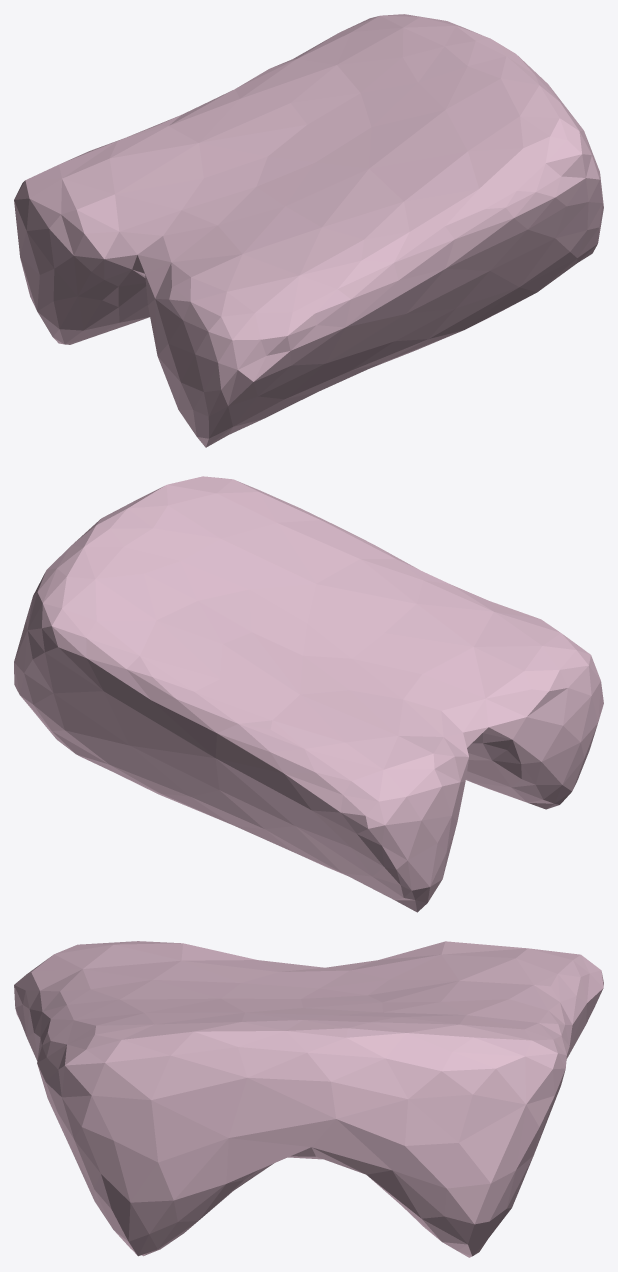
The picture shows the model from 3 angles, top to bottom: view 1: azimuth 30°, elevation 25°; view 2: azimuth 150°, elevation 25°; view 3: azimuth 270°, elevation 25°; orthographic projection. The views are drawn at different scales.
Visible parts, largest first — view 1: 169.obj; view 2: 169.obj; view 3: 169.obj.
Part boxes in pixels (x1,y1,x2,y2): 169.obj: (14, 14, 603, 447); 169.obj: (14, 476, 603, 912); 169.obj: (14, 941, 603, 1257).
Bounding box in the file's own units: 1024 × 578 × 941.
